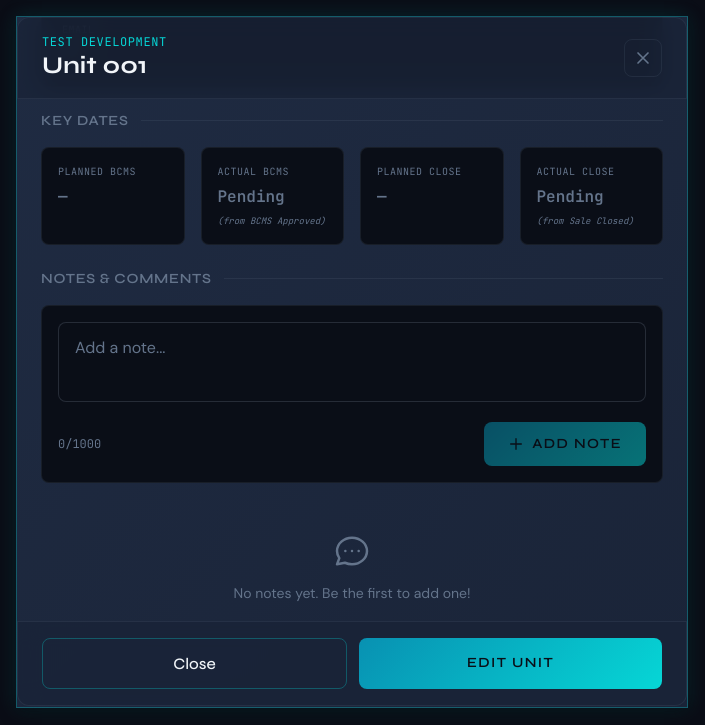
UnitDetailModal › add note functionality › shows error when user is not logged in
The width and height of the screenshot is (705, 725).
(page scrolled)
Type "Test note" into the text box with placeholder "Add a note..." at (352, 362), box [58,322,646,402]
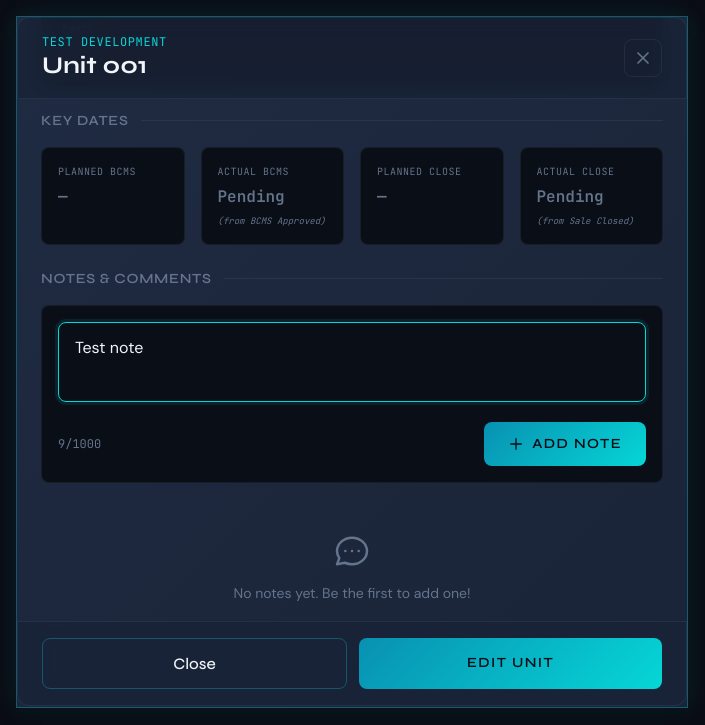
Click the button "Add Note" at (565, 444), box [484,422,646,466]
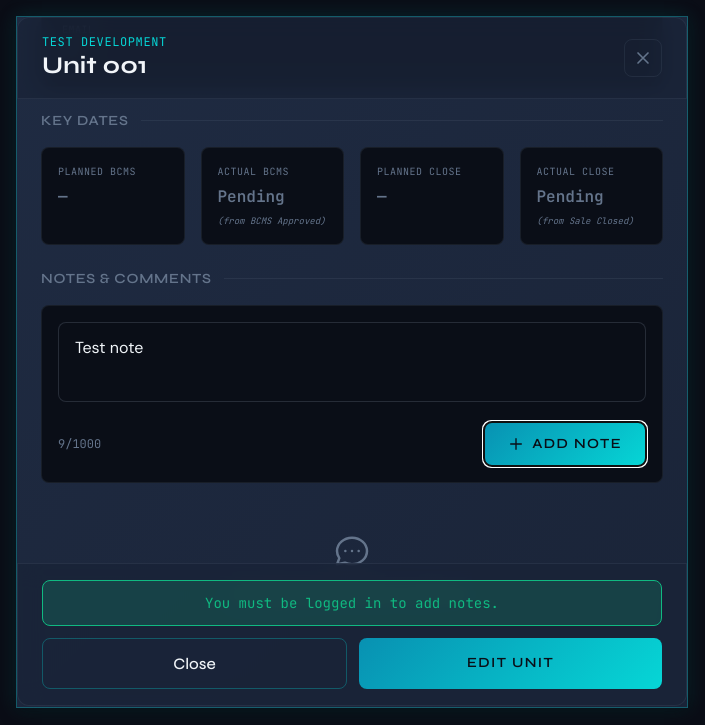
expect the text "You must be logged in to add notes." is shown: met, box [205,594,499,612]
